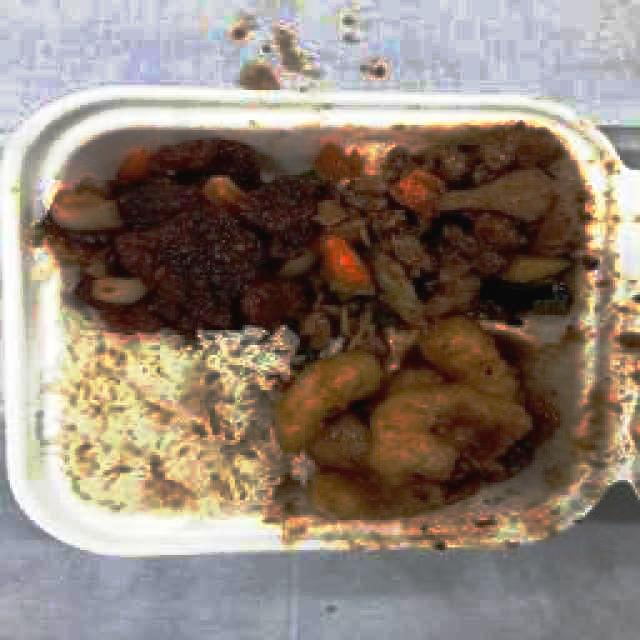Beijing Beef: (27, 137, 322, 322)
Kung Pao Chicken: (334, 130, 579, 317)
rice: (60, 330, 272, 515)
